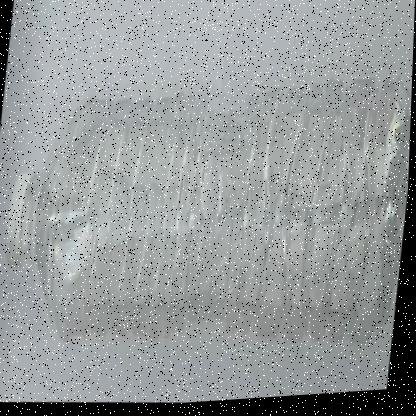bottle cap: (1, 64, 155, 363)
